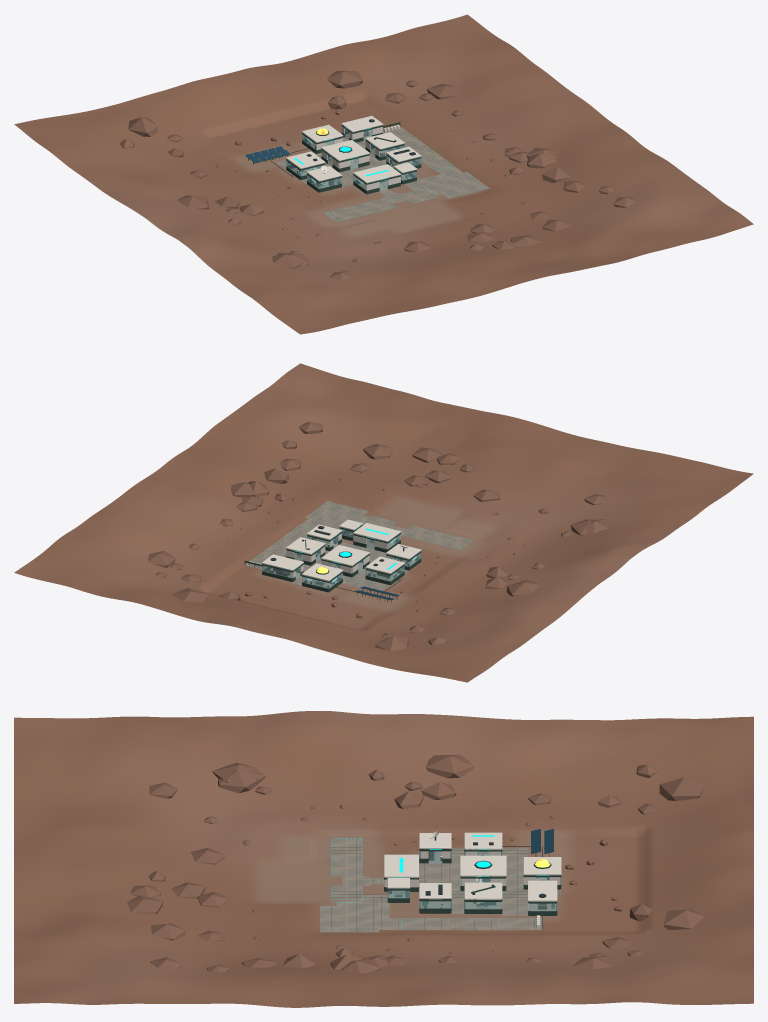
The model's file is colony-v007.glb.
3 renders of one model, top to bottom at view 1: azimuth 30°, elevation 25°; view 2: azimuth 150°, elevation 25°; view 3: azimuth 270°, elevation 25°, orthographic. The views are drawn at different scales.
Visible parts, largest first — view 1: TER_Solo, PISO_v007_Externo, PISO_v007_Interno, TET_central-hub; view 2: TER_Solo, PISO_v007_Externo, PISO_v007_Interno, TET_central-hub; view 3: TER_Solo, PISO_v007_Externo, TET_central-hub, TER_Rocha.043, PISO_v007_Interno, TER_Rocha.020, TET_meeting-suite, TER_Rocha.052, TET_editorial, TER_Rocha.058, TET_design, TET_smart-lab (+3 smaller).
Part boxes in pixels (box(x1,y1,x2,y2)): TER_Solo: box(14, 14, 753, 334); PISO_v007_Externo: box(276, 127, 489, 221); PISO_v007_Interno: box(291, 130, 413, 190); TET_central-hub: box(321, 140, 369, 161); TER_Solo: box(14, 363, 753, 682); PISO_v007_Externo: box(245, 501, 471, 590); PISO_v007_Interno: box(267, 533, 415, 587); TET_central-hub: box(321, 545, 369, 566); TER_Solo: box(14, 711, 753, 1007); PISO_v007_Externo: box(320, 838, 560, 932); TET_central-hub: box(460, 855, 506, 876); TER_Rocha.043: box(426, 754, 473, 778); PISO_v007_Interno: box(385, 849, 555, 910); TER_Rocha.020: box(659, 777, 704, 800); TET_meeting-suite: box(384, 854, 418, 877); TER_Rocha.052: box(218, 769, 265, 793); TET_editorial: box(464, 832, 502, 849); TER_Rocha.058: box(664, 909, 704, 930); TET_design: box(464, 882, 502, 899); TET_smart-lab: box(528, 880, 557, 901).
Bounding box in the file's own units: 120 × 7.92 × 131.
